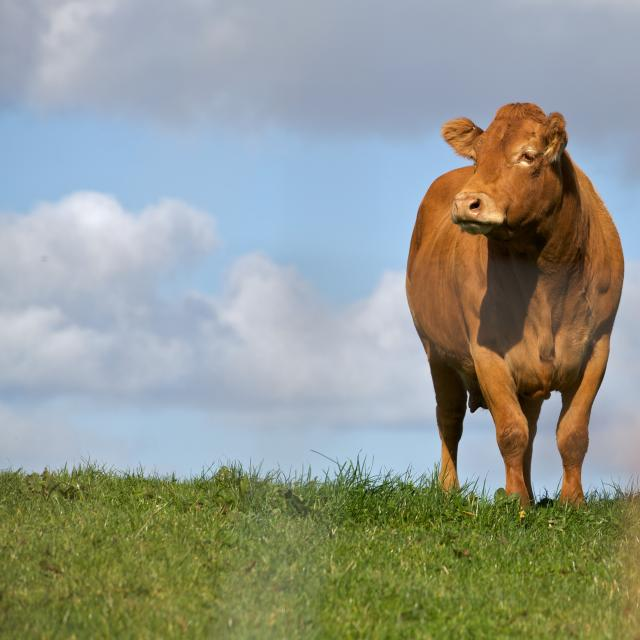cow: (406, 103, 624, 505)
